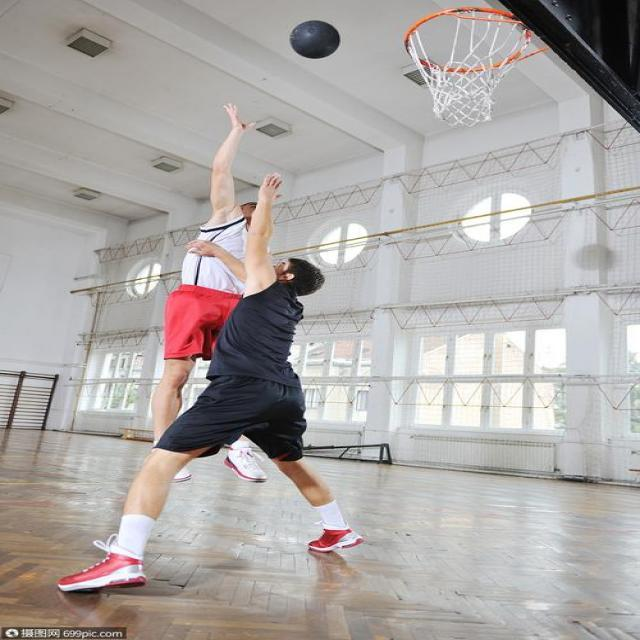rim: (288, 20, 340, 60)
